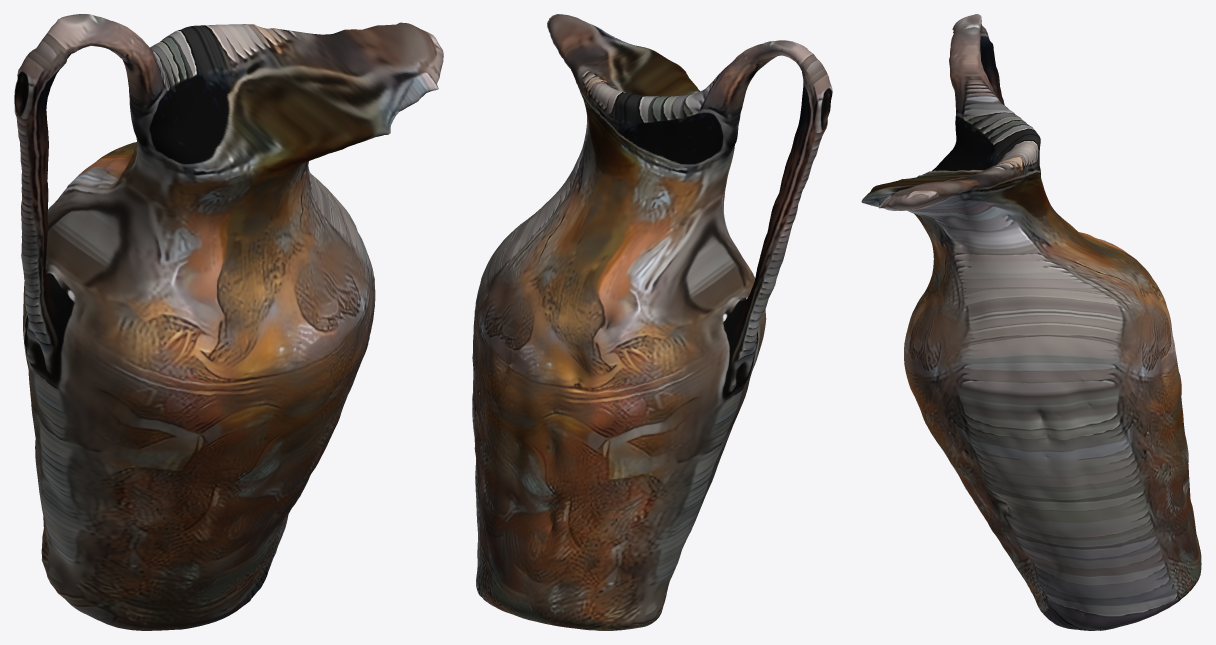
The model's file is kfl-2241.glb.
The picture shows the model from 3 angles, left to right: view 1: azimuth 30°, elevation 25°; view 2: azimuth 150°, elevation 25°; view 3: azimuth 270°, elevation 25°; orthographic projection. The views are drawn at different scales.
Parts seen in each view (by area): view 1: kfl-2241; view 2: kfl-2241; view 3: kfl-2241.
Boxes of the visible parts, x1,y1,x2,y2 form: kfl-2241: (14, 14, 443, 630); kfl-2241: (472, 14, 832, 630); kfl-2241: (861, 14, 1201, 630).
Bounding box in the file's own units: 0.5708 × 0.9912 × 0.5774.
Materials: 1 (1 with a texture image).
